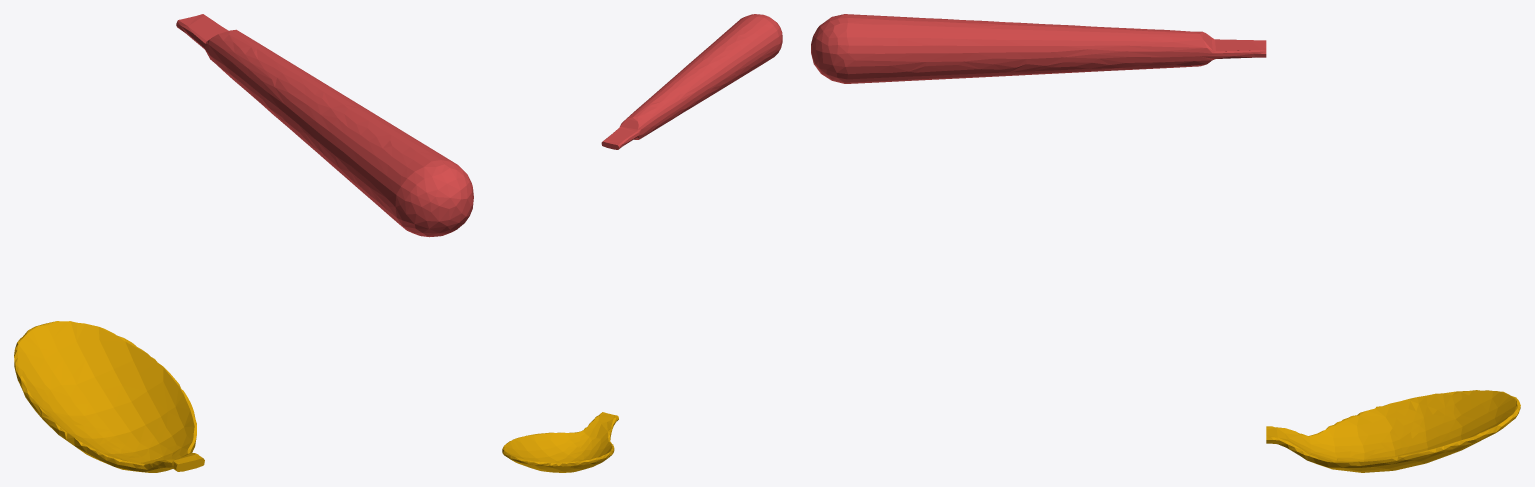
The model's file is mode_1_2pcs_transformed.glb.
3 renders of one model, left to right at view 1: azimuth 30°, elevation 25°; view 2: azimuth 150°, elevation 25°; view 3: azimuth 270°, elevation 25°, orthographic. The views are drawn at different scales.
Visible parts, largest first — view 1: piece_1.obj, piece_0.obj; view 2: piece_1.obj, piece_0.obj; view 3: piece_1.obj, piece_0.obj.
Boxes of the visible parts, x1=… form: piece_1.obj: x1=176, y1=14, x2=473, y2=237; piece_0.obj: x1=14, y1=321, x2=204, y2=472; piece_1.obj: x1=601, y1=14, x2=782, y2=149; piece_0.obj: x1=502, y1=412, x2=618, y2=472; piece_1.obj: x1=811, y1=14, x2=1266, y2=83; piece_0.obj: x1=1266, y1=390, x2=1520, y2=472.
Size of the model in its own units: 0.1912 by 0.6966 by 1.
